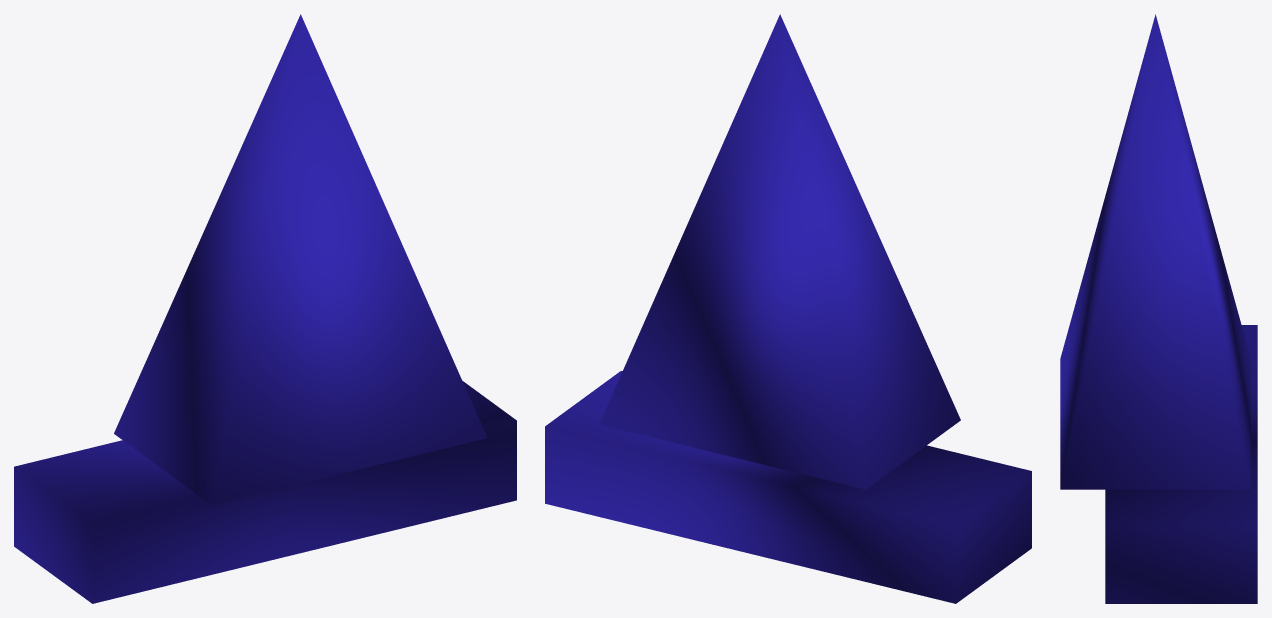
The model's file is ps2_jrpg_harbor_boat_mooring_marker.obj.
The picture shows the model from 3 angles, left to right: view 1: azimuth 30°, elevation 25°; view 2: azimuth 150°, elevation 25°; view 3: azimuth 270°, elevation 25°; orthographic projection. The views are drawn at different scales.
Bounding box in the file's own units: 1 × 1.16 × 0.4142.
